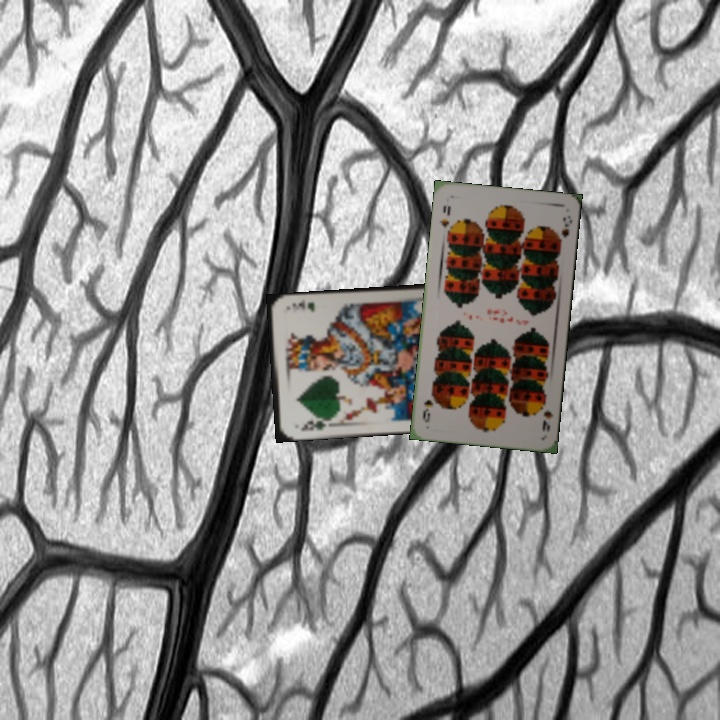GK: (296, 415, 330, 433)
S9: (537, 395, 555, 435), (436, 201, 453, 231)
